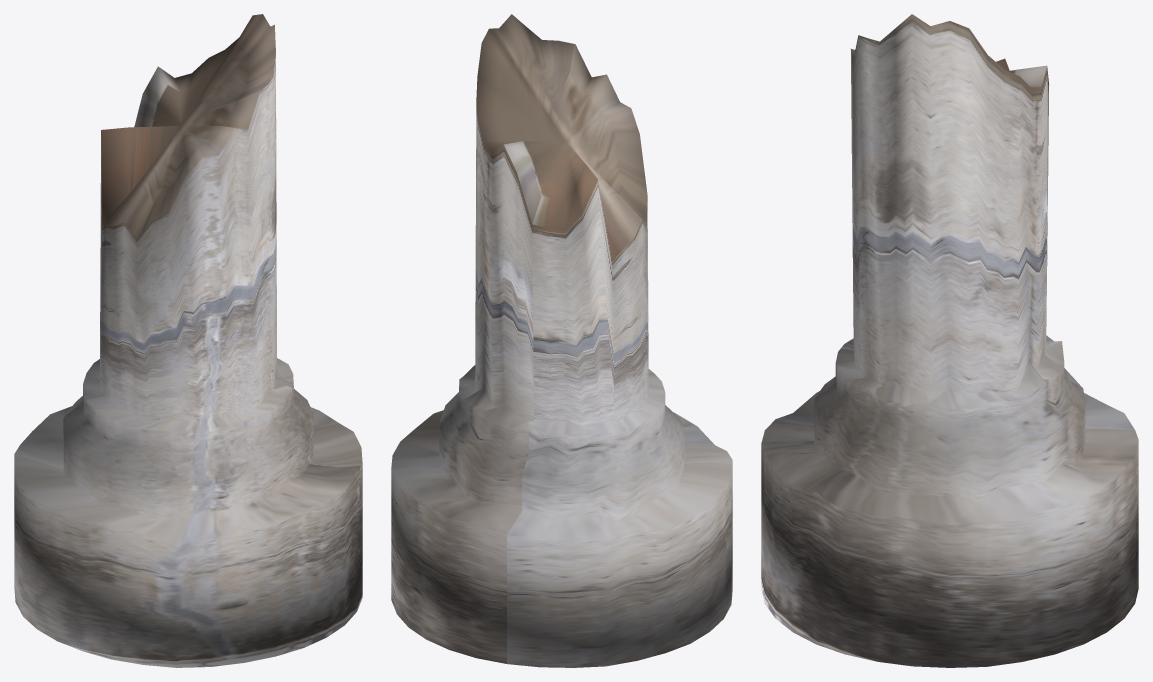
The model's file is broken pillar.fbx.
3 views of the same model, side by side, from view 1: azimuth 30°, elevation 25°; view 2: azimuth 150°, elevation 25°; view 3: azimuth 270°, elevation 25° (orthographic). The views are drawn at different scales.
Parts seen in each view (by area): view 1: Cylinder; view 2: Cylinder; view 3: Cylinder.
Boxes of the visible parts, box(x1,y1,x2,y2) form: Cylinder: box(14, 14, 362, 667); Cylinder: box(391, 14, 732, 667); Cylinder: box(761, 14, 1138, 667).
Size of the model in its own units: 393 by 702 by 393.
